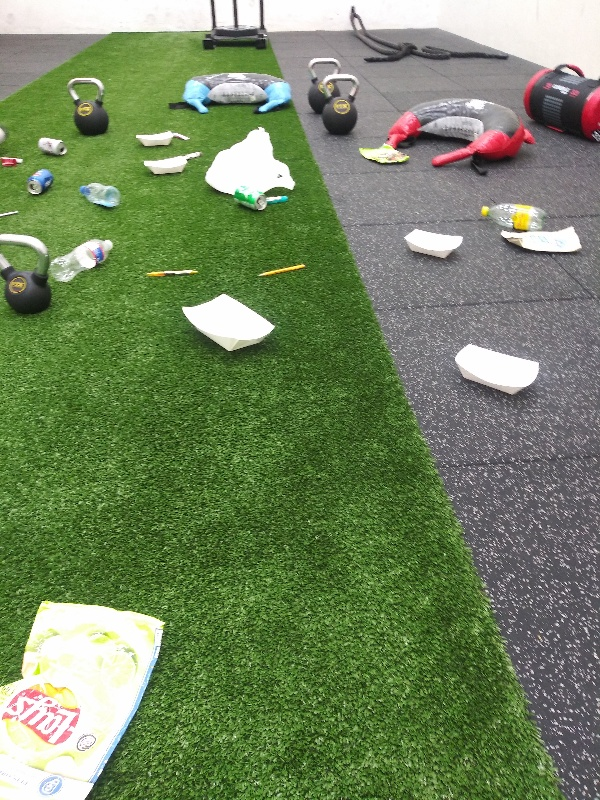bag: (1, 596, 172, 798), (500, 225, 590, 258), (353, 140, 415, 168)
bottle: (48, 235, 116, 286), (476, 201, 550, 230), (76, 179, 120, 211)
can: (24, 167, 57, 199), (230, 186, 270, 212), (35, 135, 69, 157)
plate: (173, 292, 281, 357), (447, 342, 543, 396), (401, 225, 467, 261), (138, 154, 190, 181), (133, 129, 178, 147)
